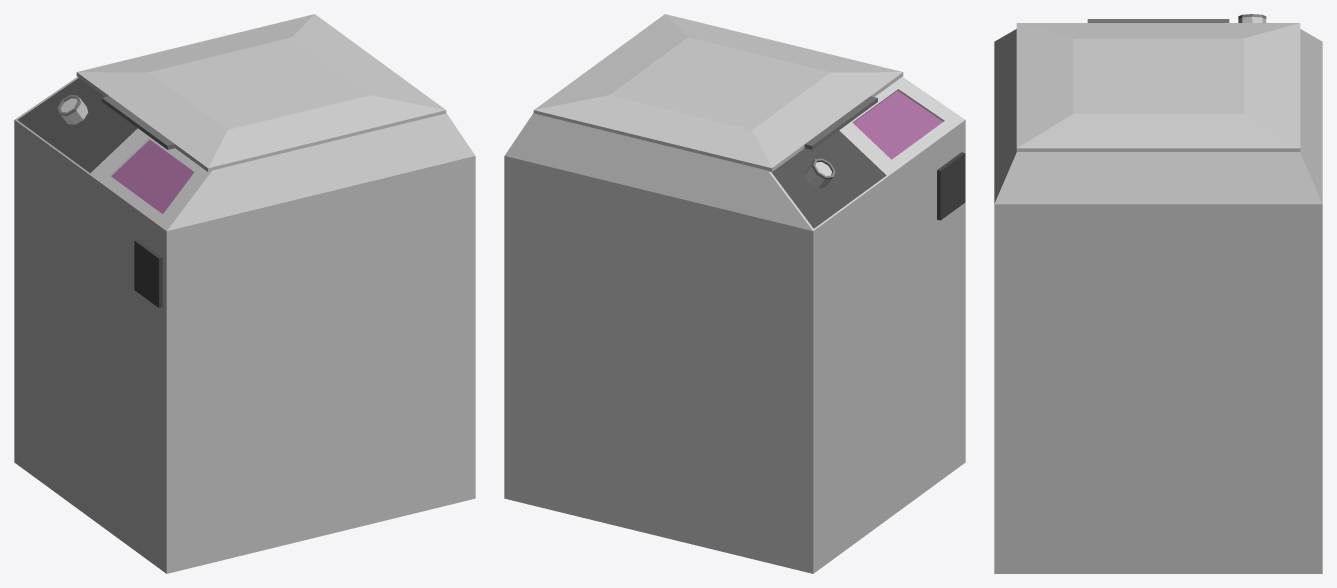
File: Washing Machine.fbx
3 renders of one model, left to right at view 1: azimuth 30°, elevation 25°; view 2: azimuth 150°, elevation 25°; view 3: azimuth 270°, elevation 25°, orthographic. The views are drawn at different scales.
Visible parts, largest first — view 1: Washing Machine, Lid, Draw; view 2: Washing Machine, Lid, Draw; view 3: Washing Machine, Lid.
Boxes of the visible parts, bbox=[...] form: Washing Machine: bbox=[14, 77, 475, 573]; Lid: bbox=[76, 14, 446, 171]; Draw: bbox=[134, 240, 162, 307]; Washing Machine: bbox=[504, 77, 965, 573]; Lid: bbox=[533, 14, 903, 171]; Draw: bbox=[937, 152, 965, 220]; Washing Machine: bbox=[994, 14, 1322, 573]; Lid: bbox=[1016, 19, 1300, 151].
Size of the model in its own units: 830 by 998 by 700.
